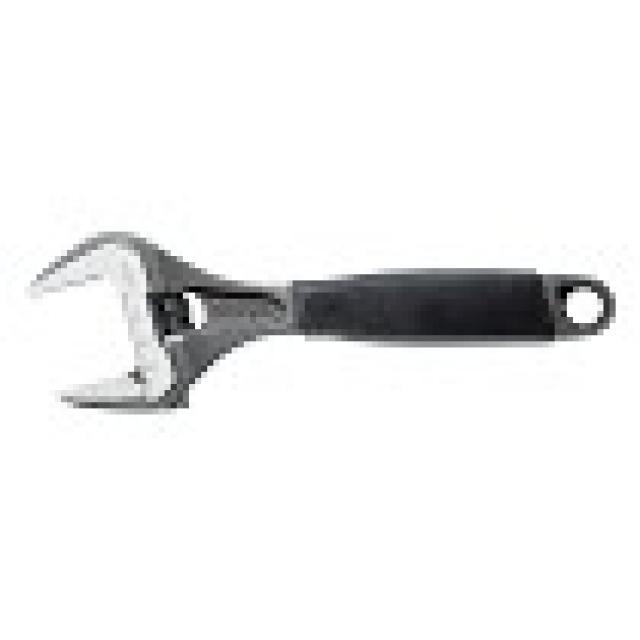wrench: (14, 221, 626, 427)
